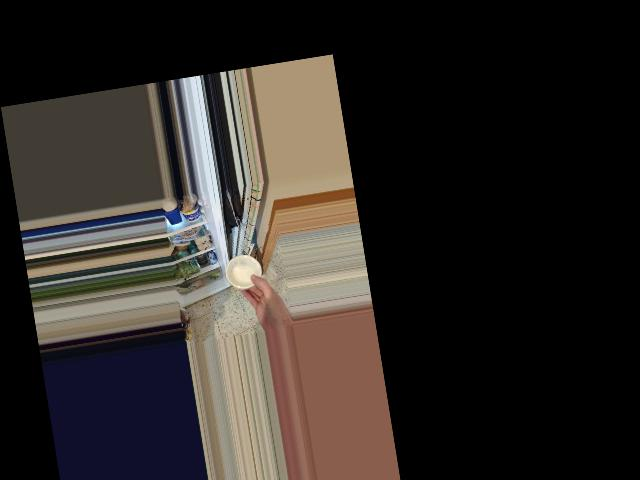cotage: (223, 251, 261, 293)
